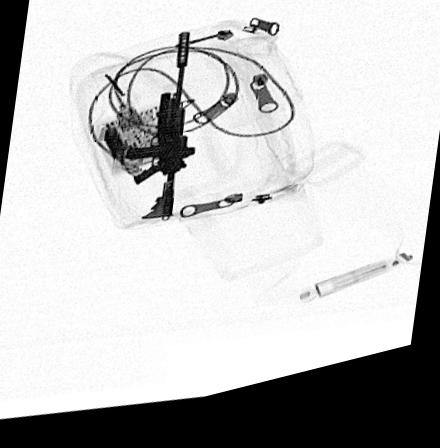Gun: (124, 40, 197, 227)
